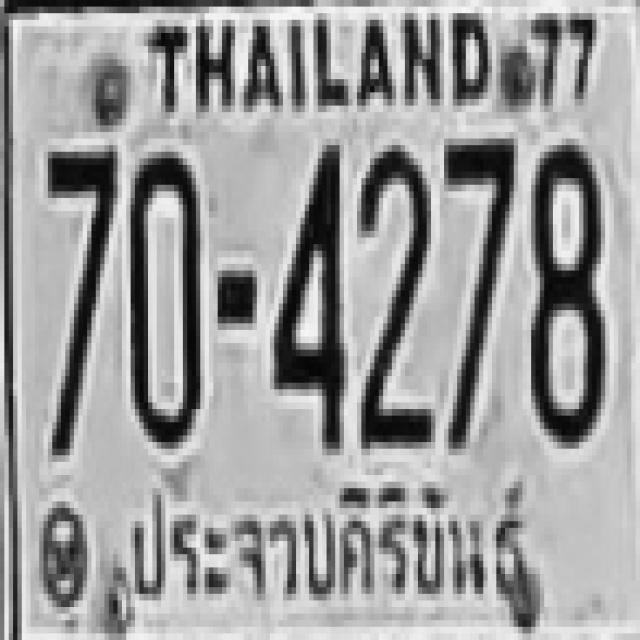0: (126, 145, 196, 442)
2: (357, 145, 427, 442), (357, 142, 427, 419)
4: (270, 139, 340, 442)
7: (44, 145, 113, 449), (442, 135, 511, 439), (44, 145, 113, 416), (442, 132, 511, 343), (44, 145, 113, 350), (442, 135, 511, 320)
8: (527, 138, 601, 436)
PrachuapKhiriKhan: (111, 472, 546, 618)
